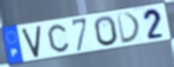2: (142, 6, 168, 43)
7: (71, 17, 90, 53)
C: (46, 23, 71, 53)
D: (115, 12, 143, 46)
O: (93, 15, 120, 48)
V: (21, 24, 42, 59)
